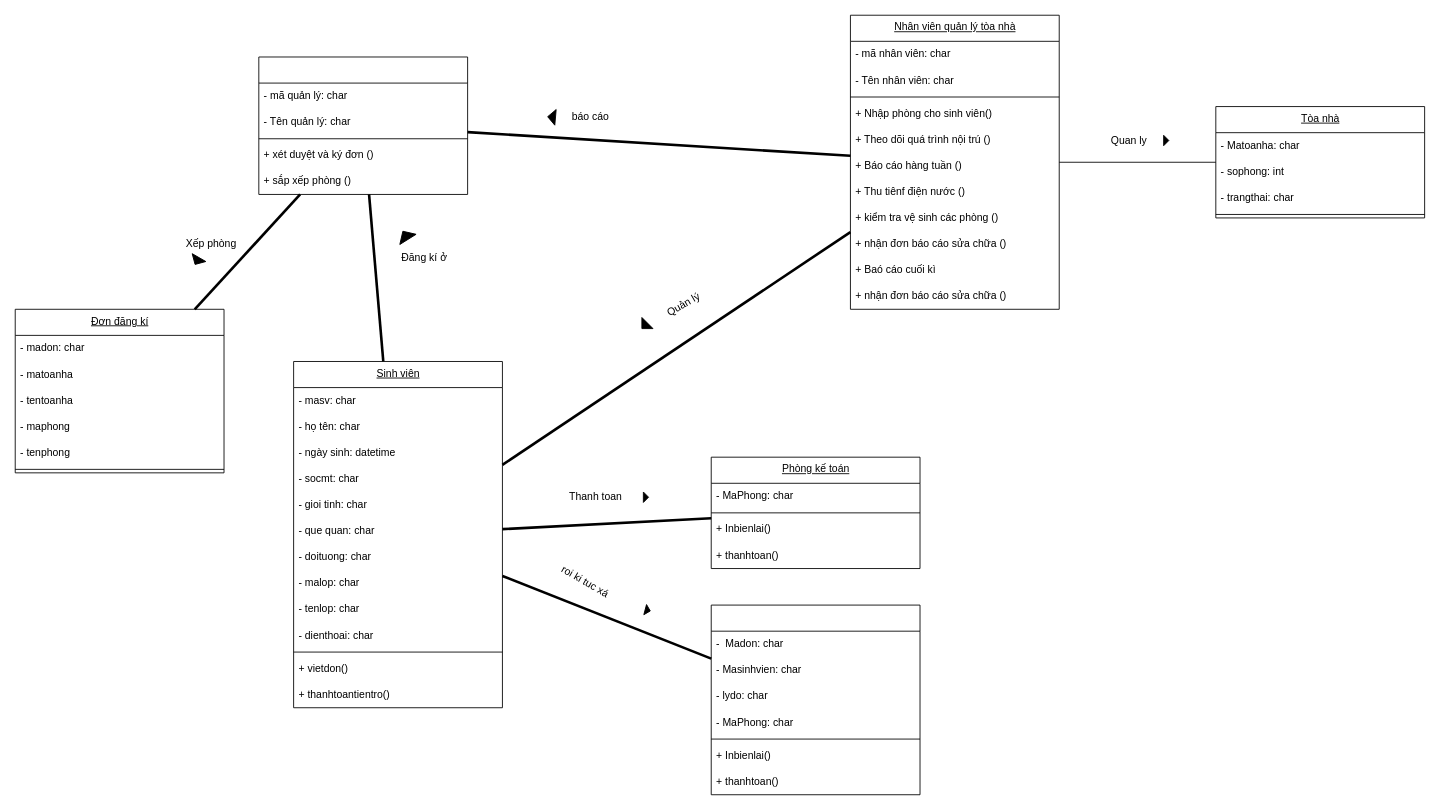
Some shapes in this 1440 by 810 pixel diagram are drawn without their labels. Each missing label, with the box of its shape:
Ban quản lý: (258, 56, 468, 194)
donXinChuyen: (710, 604, 920, 795)
